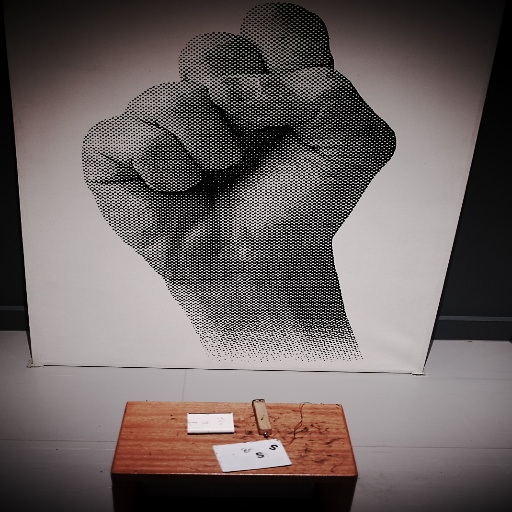hand: (55, 29, 418, 343)
